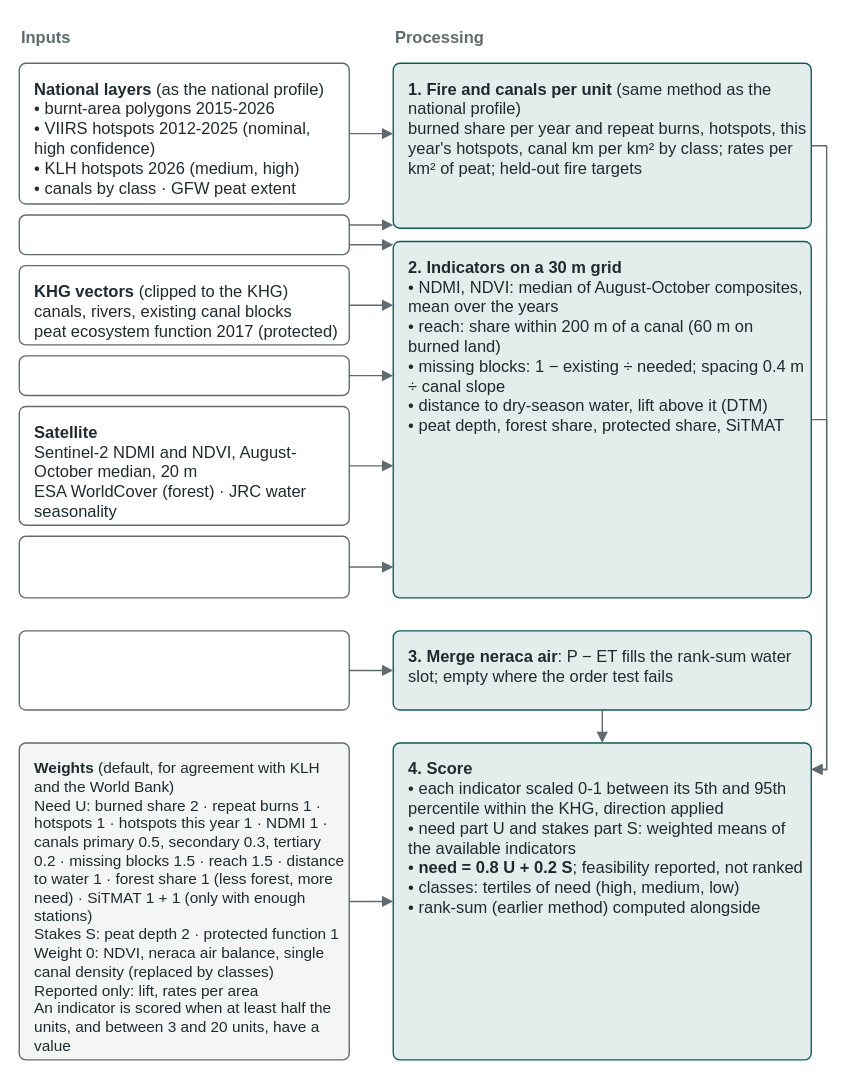
Image size: 857x1079. Some labels were removed from this diagram. The centre of each missing label's shape, as x and y in pixels:
"Neraca air P − ET per unit, with its order-test result KHG deficit" belongs at point 183,670.
"Rasters DTM (slope, lift) · peat depth model" belongs at point 183,375.
"SiTMAT stations 2026 (days deeper than 0.4 m, recession)" belongs at point 183,566.
"Sub-KHG units from the delineation" belongs at point 183,234.
